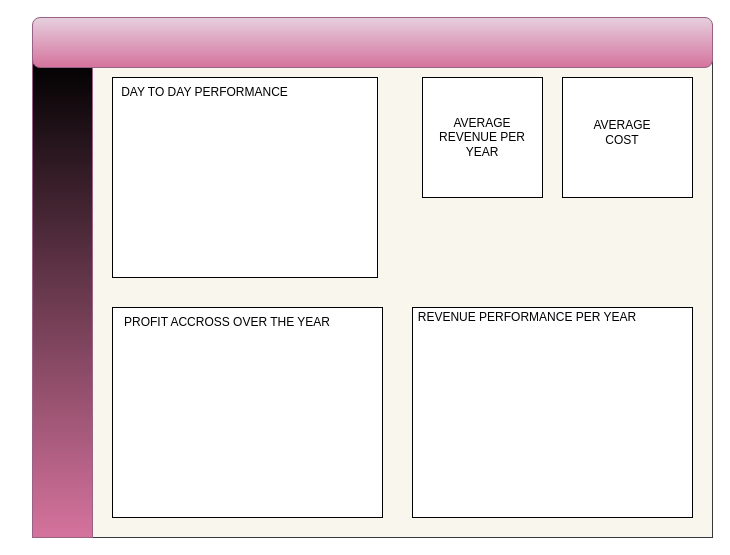
Some shapes in this 730 by 555 pixel diagram are drawn without their labels. The shapes that lost their labels are listed below. From the top down, each one's centre as x and y in pixels, then its label:
the point at 372,42: SALES PERFORMANCE DASHBOARD
the point at 62,297: Navigator
